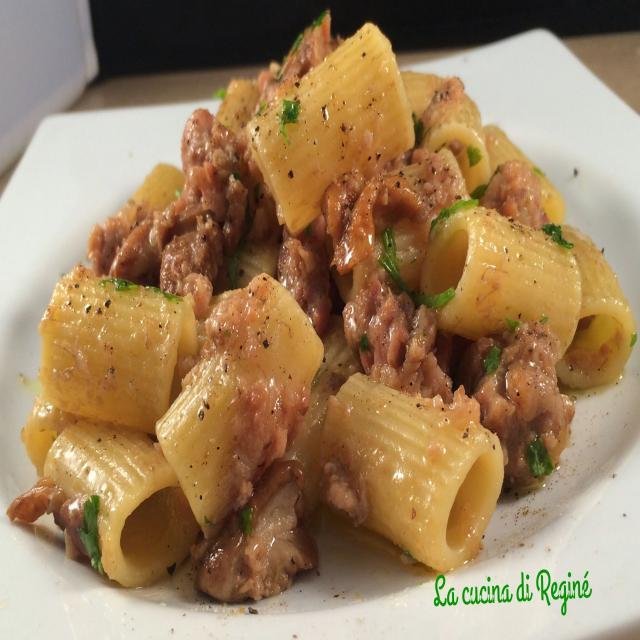Pasta al ragu: (65, 14, 625, 514)
